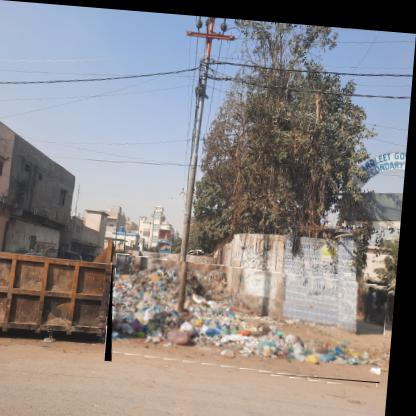Garbage: (112, 255, 394, 379)
